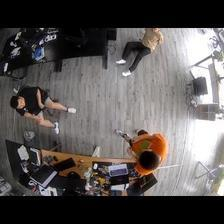fall: (115, 29, 166, 77)
normal: (10, 82, 77, 133), (112, 125, 168, 172)
